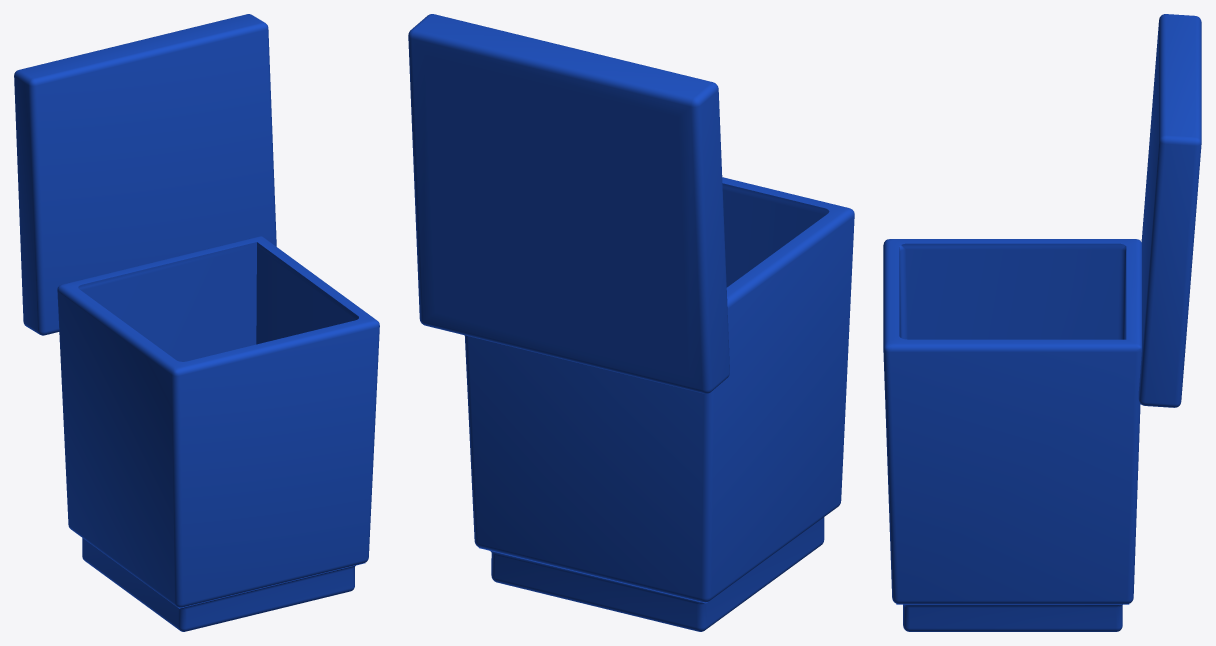
Rendered from Lixerira interna.fbx.
The picture shows the model from 3 angles, left to right: view 1: azimuth 30°, elevation 25°; view 2: azimuth 150°, elevation 25°; view 3: azimuth 270°, elevation 25°; orthographic projection. The views are drawn at different scales.
Parts seen in each view (by area): view 1: Cube, Cube.001; view 2: Cube, Cube.001; view 3: Cube, Cube.001.
Part boxes in pixels (bbox=[...]): Cube: bbox=[57, 236, 379, 631]; Cube.001: bbox=[14, 14, 276, 335]; Cube: bbox=[464, 177, 854, 631]; Cube.001: bbox=[408, 14, 729, 393]; Cube: bbox=[883, 239, 1141, 631]; Cube.001: bbox=[1138, 14, 1201, 407].
Bounding box in the file's own units: 27.2 × 51.5 × 28.96.
